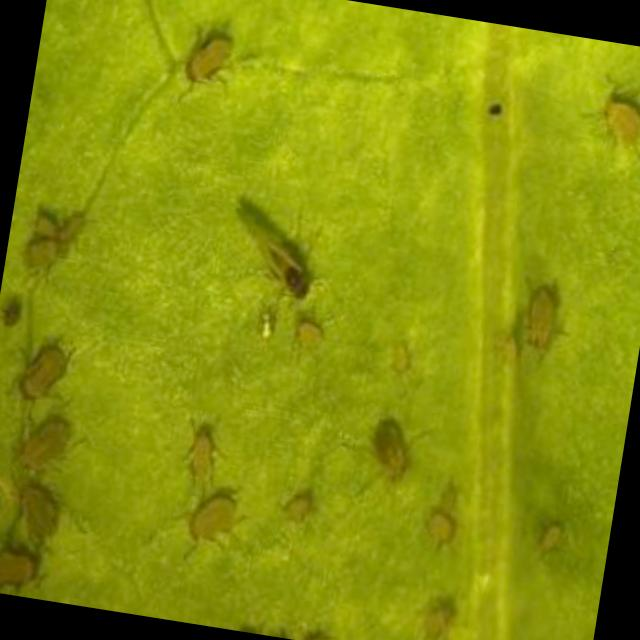Green peach aphid: (196, 175, 352, 308), (480, 264, 600, 399), (150, 457, 265, 568), (345, 392, 445, 500), (156, 14, 266, 112), (400, 468, 491, 566), (260, 456, 348, 554), (11, 195, 94, 292), (0, 462, 89, 552), (11, 326, 92, 419), (0, 399, 85, 486), (511, 496, 589, 588), (575, 75, 640, 185), (394, 567, 489, 640), (176, 412, 244, 492), (266, 304, 341, 366), (0, 536, 56, 601), (0, 278, 46, 339)
